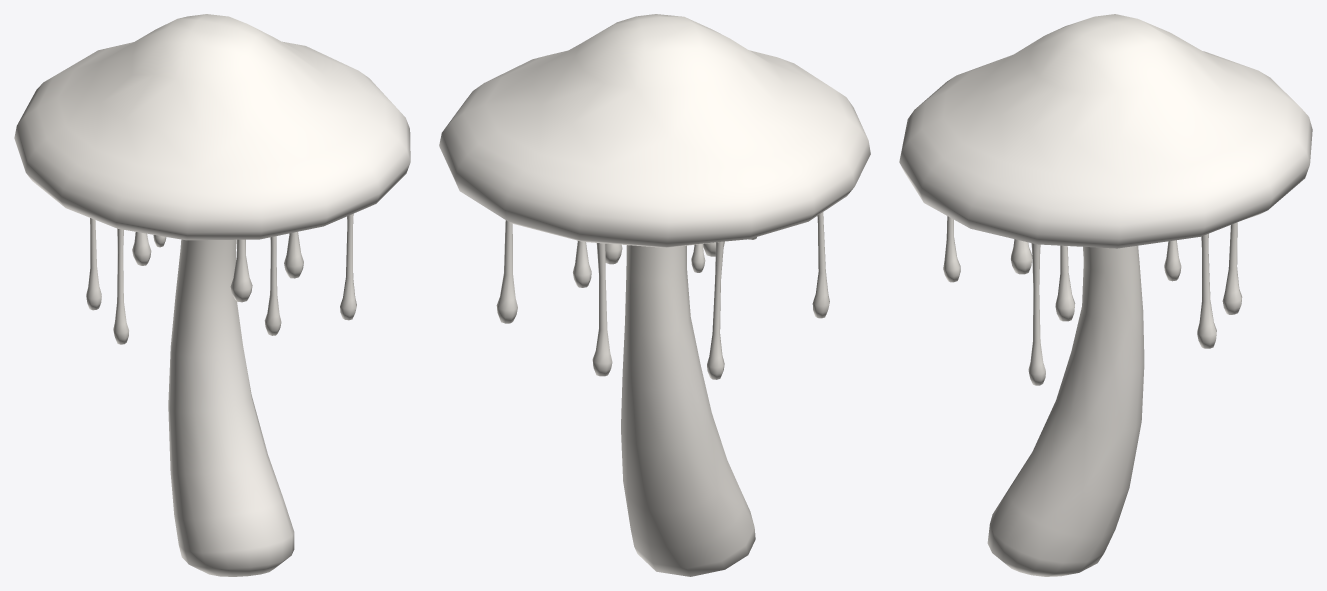
Rendered from Mushroom_0001_0009.fbx.
3 renders of one model, left to right at view 1: azimuth 30°, elevation 25°; view 2: azimuth 150°, elevation 25°; view 3: azimuth 270°, elevation 25°, orthographic. The views are drawn at different scales.
Parts seen in each view (by area): view 1: Mushroom_0001_0009; view 2: Mushroom_0001_0009; view 3: Mushroom_0001_0009.
Boxes of the visible parts, left/top/right/bottom form: Mushroom_0001_0009: left=14, top=14, right=410, bottom=576; Mushroom_0001_0009: left=439, top=14, right=870, bottom=576; Mushroom_0001_0009: left=899, top=14, right=1312, bottom=576.
Bounding box in the file's own units: 0.1827 × 0.2656 × 0.1847.
1 material, 1 textured.
